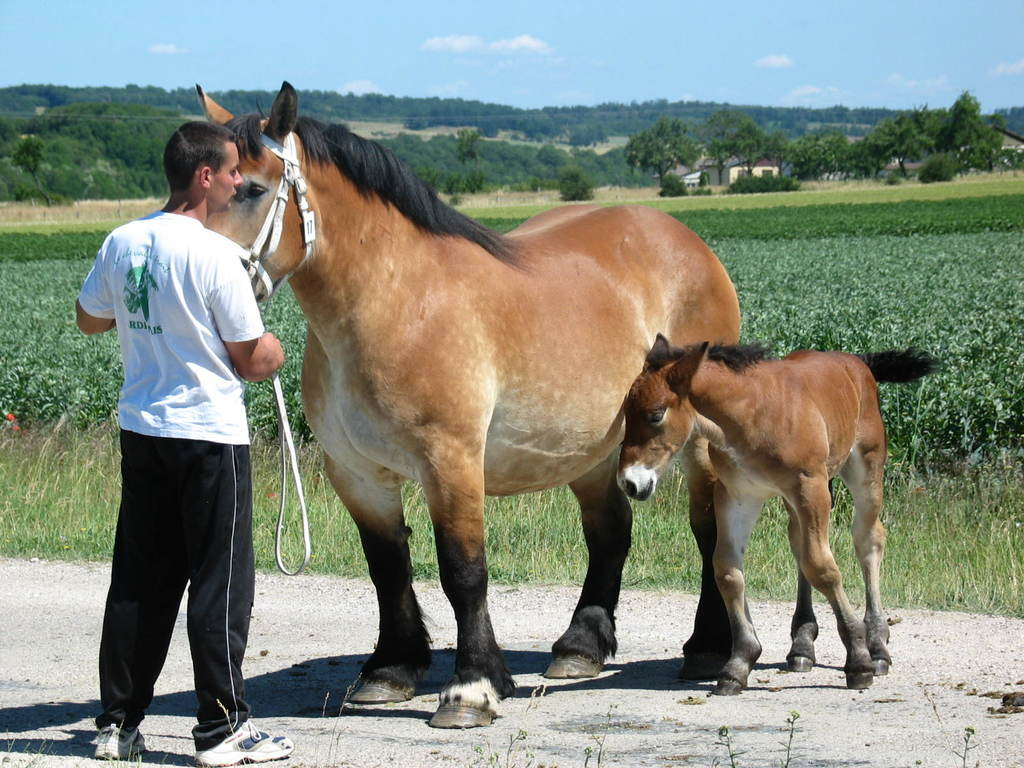horse: (618, 332, 949, 698)
